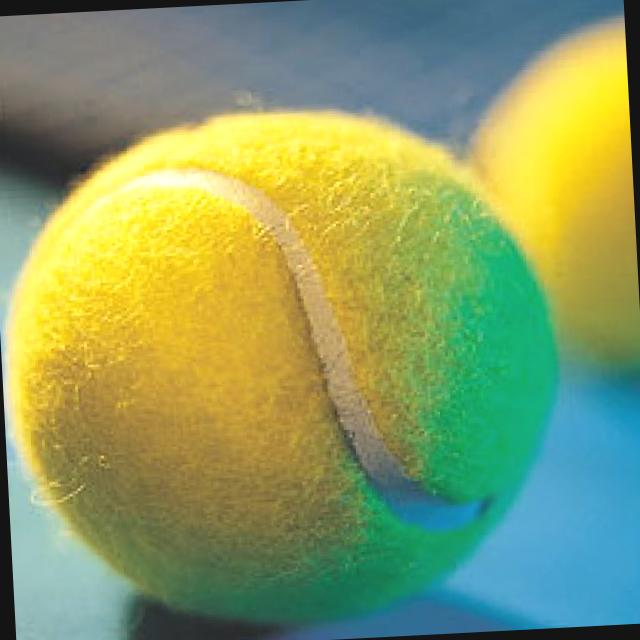Tennis Ball: (7, 110, 561, 633), (468, 12, 640, 365)
